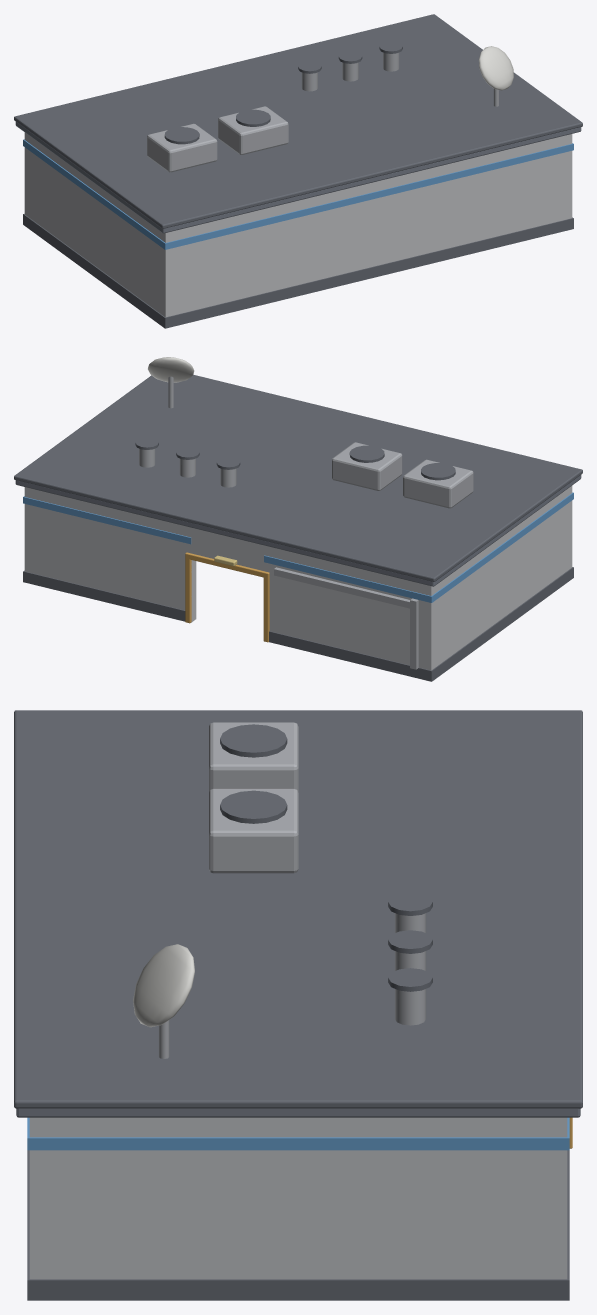
Rendered from server_room.glb.
3 views of the same model, one above another, from view 1: azimuth 30°, elevation 25°; view 2: azimuth 150°, elevation 25°; view 3: azimuth 270°, elevation 25° (orthographic). The views are drawn at different scales.
Parts seen in each view (by area): view 1: ServerRoom; view 2: ServerRoom; view 3: ServerRoom.
Boxes of the visible parts, left/top/right/bottom form: ServerRoom: left=14, top=14, right=582, bottom=328; ServerRoom: left=14, top=357, right=582, bottom=681; ServerRoom: left=14, top=710, right=582, bottom=1300.
Bounding box in the file's own units: 20.7 × 7.62 × 12.7.
